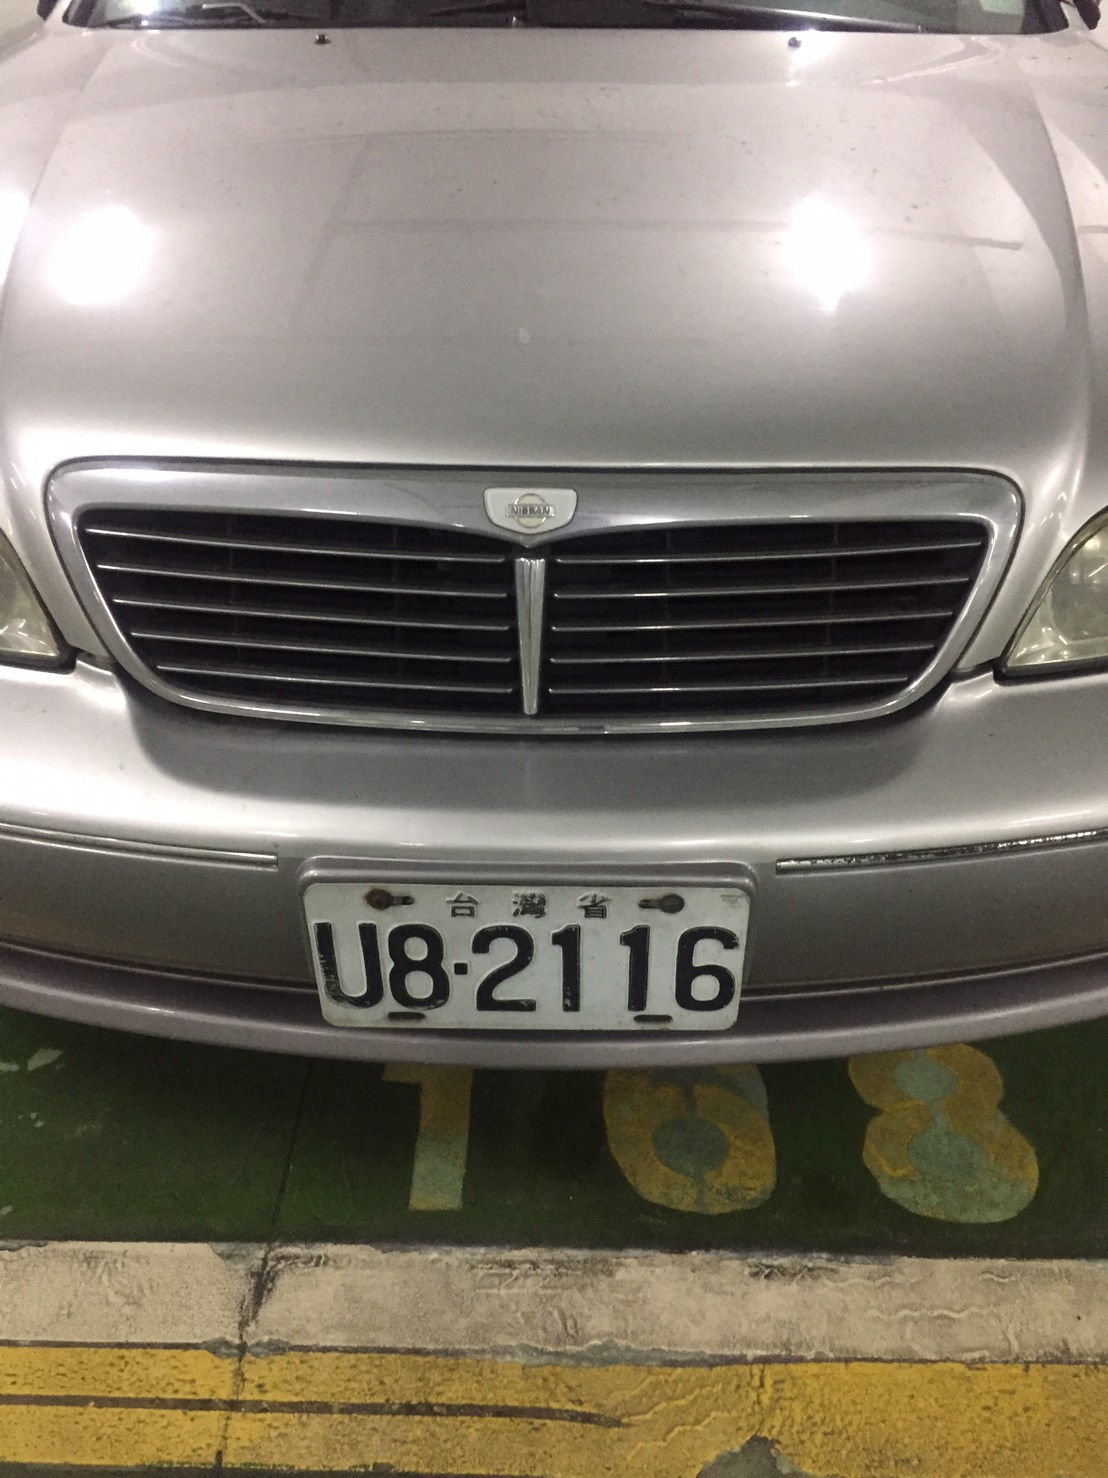LP: (298, 871, 747, 1036)
